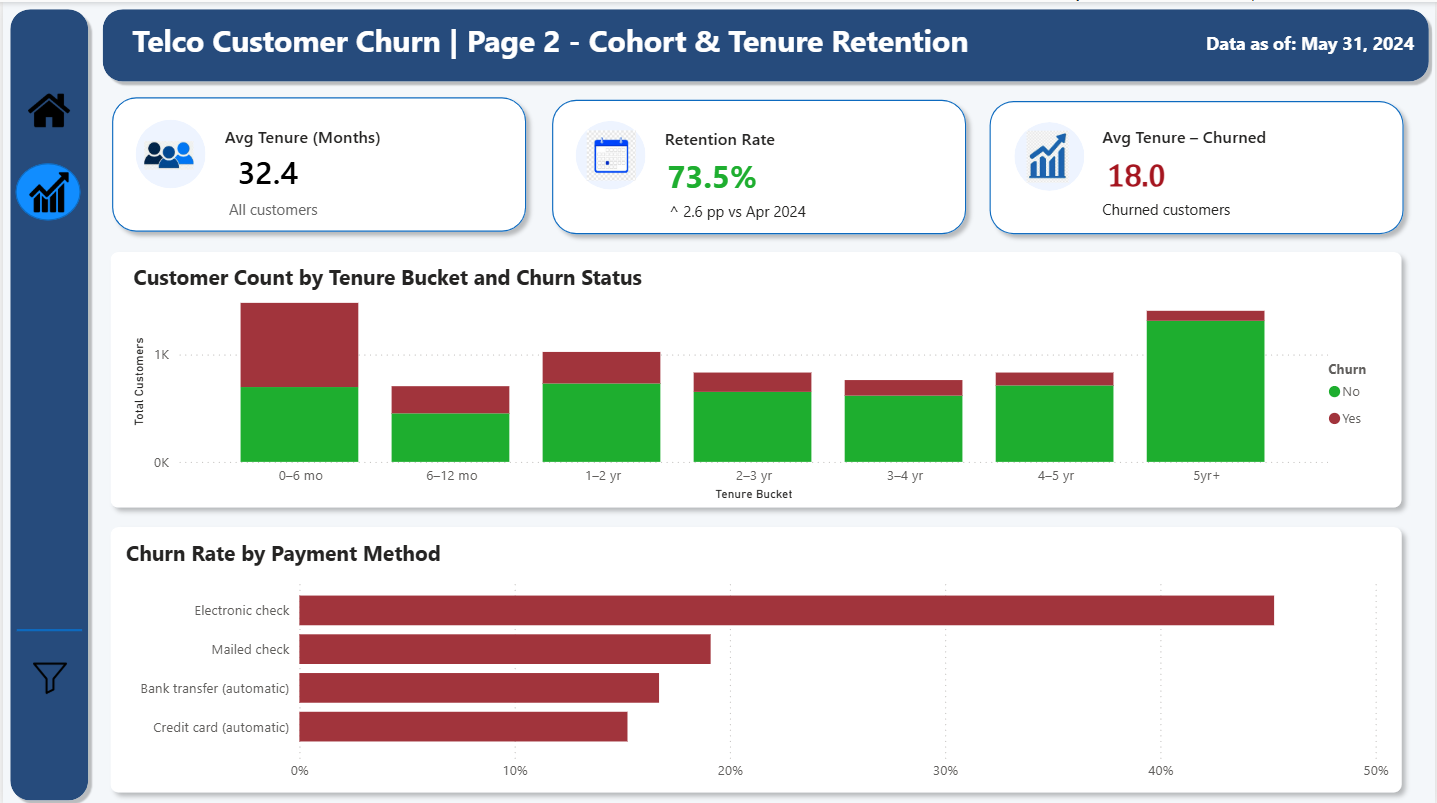

The page's visual inventory and layout, read from the dashboard file:
{"tool":"powerbi","page":{"name":"Duplicate of Duplicate of Duplicate of Page 2","canvas":[1280,720],"ordinal":1},"visuals":[{"type":"shape","box":[82.5,0,1197.5,77.5],"z":0},{"type":"textbox","box":[110.5,11.6,824.4,53.5],"z":1000},{"type":"textbox","box":[1069.8,19.8,197.7,36],"z":2000},{"type":"shape","box":[85.2,73.1,395,145.2],"z":3000},{"type":"cardVisual","title":"Total Enrollment Records","fields":{"Data":["_Measures.Avg Tenure (Months)"]},"box":[190.1,112,94.3,77.9],"z":4000},{"type":"shape","box":[118.3,105.1,62.8,61.6],"z":5000},{"type":"image","box":[126.1,113.4,44.2,46.5],"z":6000},{"type":"textbox","box":[193.1,104.5,155.8,31.4],"z":7000},{"type":"textbox","box":[193.1,170.8,138.4,31.4],"z":8000},{"type":"shape","box":[868.7,75.4,395,144],"z":9000},{"type":"cardVisual","title":"Total Enrollment Records","fields":{"Data":["_Measures.Avg Tenure - Churned"]},"box":[971.8,117,87.4,77.1],"z":10000},{"type":"shape","box":[903.3,106.7,62.8,61.6],"z":11000},{"type":"image","box":[911.1,115.1,44.2,46.5],"z":12000},{"type":"textbox","box":[976.9,105.4,191.5,32.1],"z":13000},{"type":"textbox","box":[976.9,171,191.5,30.8],"z":14000},{"type":"shape","box":[477.9,74.4,395,145.2],"z":15000},{"type":"shape","box":[511.8,106.4,62.8,61.6],"z":16000},{"type":"image","box":[521,113.8,44.2,46.5],"z":17000},{"type":"textbox","box":[585.9,107,133.7,31.4],"z":18000},{"type":"textbox","box":[585.9,173.3,150,30.2],"z":19000},{"type":"cardVisual","title":"Total Enrollment Records","fields":{"Data":["_Measures.Retention Rate"]},"box":[586.1,132.4,95.1,42.4],"z":20000},{"type":"shape","box":[82.5,210,1180,255],"z":21000},{"type":"textbox","box":[111.8,227.5,521.9,42.4],"z":22000},{"type":"columnChart","fields":{"Y":["_Measures.Total Customers"],"Category":["fact_subscriptions.Tenure Bucket"],"Series":["fact_subscriptions.Churn"]},"box":[111.8,258.4,1131.2,187.7],"z":23000},{"type":"shape","box":[82.6,455.8,1180.2,264],"z":24000},{"type":"textbox","box":[104.7,479.1,361.6,31.4],"z":25000},{"type":"shape","box":[0,0,82.6,719.8],"z":26000},{"type":"shape","box":[11.2,143.8,58.1,51.2],"z":27000},{"type":"shape","box":[12.5,535,58.8,52.5],"z":28000},{"type":"image","box":[22.1,74.4,37.2,44.2],"z":29000},{"type":"image","box":[17.4,150,46.5,40.7],"z":30000},{"type":"image","box":[26.7,587.2,30.2,33.7],"z":31000},{"type":"barChart","fields":{"Y":["_Measures.Churn Rate"],"Category":["dim_contract.PaymentMethod"]},"box":[104.7,503.5,1138.4,201.2],"z":32000}]}

Visuals, with their boxes on the page's 1280x720 design canvas (x1, y1, x2, y2). These are canvas units, not pixel positions in the 1437x803 screenshot, which may show the page scaled, cropped or inside an application window:
shape: rect(82, 0, 1280, 78)
textbox: rect(110, 12, 935, 65)
textbox: rect(1070, 20, 1268, 56)
shape: rect(85, 73, 480, 218)
"Total Enrollment Records" cardVisual: rect(190, 112, 284, 190)
shape: rect(118, 105, 181, 167)
image: rect(126, 113, 170, 160)
textbox: rect(193, 104, 349, 136)
textbox: rect(193, 171, 332, 202)
shape: rect(869, 75, 1264, 219)
"Total Enrollment Records" cardVisual: rect(972, 117, 1059, 194)
shape: rect(903, 107, 966, 168)
image: rect(911, 115, 955, 162)
textbox: rect(977, 105, 1168, 138)
textbox: rect(977, 171, 1168, 202)
shape: rect(478, 74, 873, 220)
shape: rect(512, 106, 575, 168)
image: rect(521, 114, 565, 160)
textbox: rect(586, 107, 720, 138)
textbox: rect(586, 173, 736, 204)
"Total Enrollment Records" cardVisual: rect(586, 132, 681, 175)
shape: rect(82, 210, 1262, 465)
textbox: rect(112, 228, 634, 270)
columnChart - _Measures.Total Customers x fact_subscriptions.Tenure Bucket: rect(112, 258, 1243, 446)
shape: rect(83, 456, 1263, 720)
textbox: rect(105, 479, 466, 510)
shape: rect(0, 0, 83, 720)
shape: rect(11, 144, 69, 195)
shape: rect(12, 535, 71, 588)
image: rect(22, 74, 59, 119)
image: rect(17, 150, 64, 191)
image: rect(27, 587, 57, 621)
barChart - _Measures.Churn Rate x dim_contract.PaymentMethod: rect(105, 504, 1243, 705)
